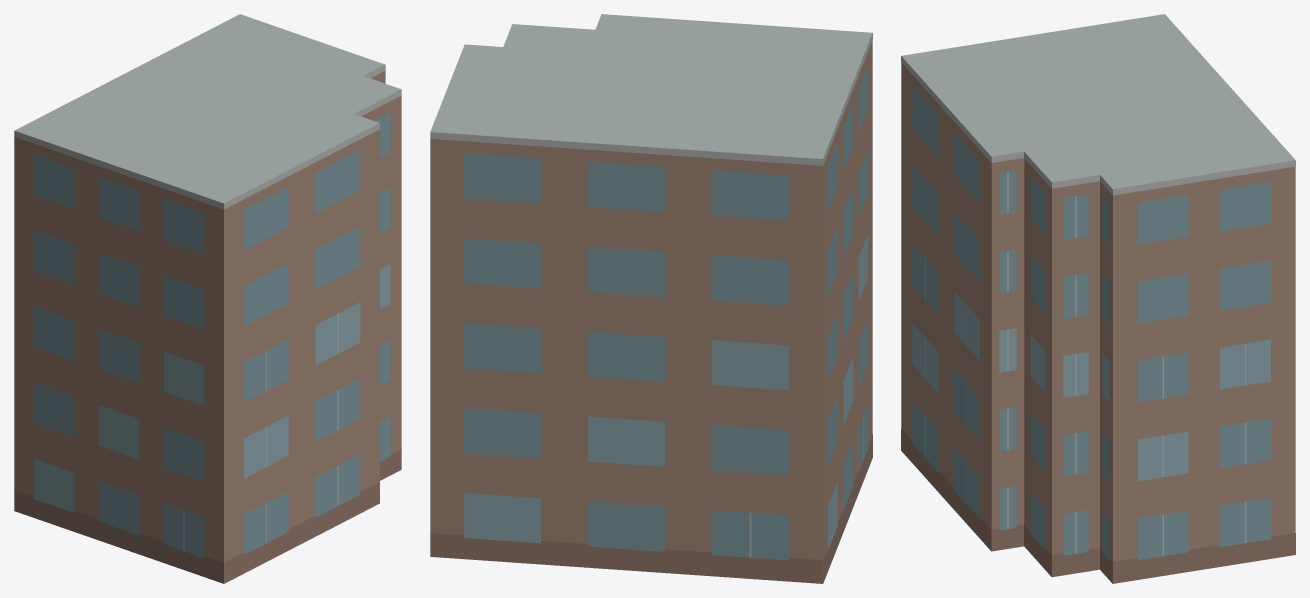
Rendered from survey-upis-32628114.glb.
3 views of the same model, side by side, from view 1: azimuth 30°, elevation 25°; view 2: azimuth 150°, elevation 25°; view 3: azimuth 270°, elevation 25° (orthographic). The views are drawn at different scales.
Parts seen in each view (by area): view 1: survey-upis-32628114.tmp; view 2: survey-upis-32628114.tmp; view 3: survey-upis-32628114.tmp.
Part boxes in pixels (x1,y1,x2,y2): survey-upis-32628114.tmp: (14, 14, 401, 583); survey-upis-32628114.tmp: (430, 14, 872, 583); survey-upis-32628114.tmp: (901, 14, 1295, 583).
Bounding box in the file's own units: 14.58 × 15.3 × 13.88.
